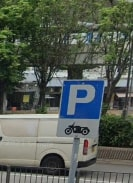Parking: (58, 81, 103, 143)
